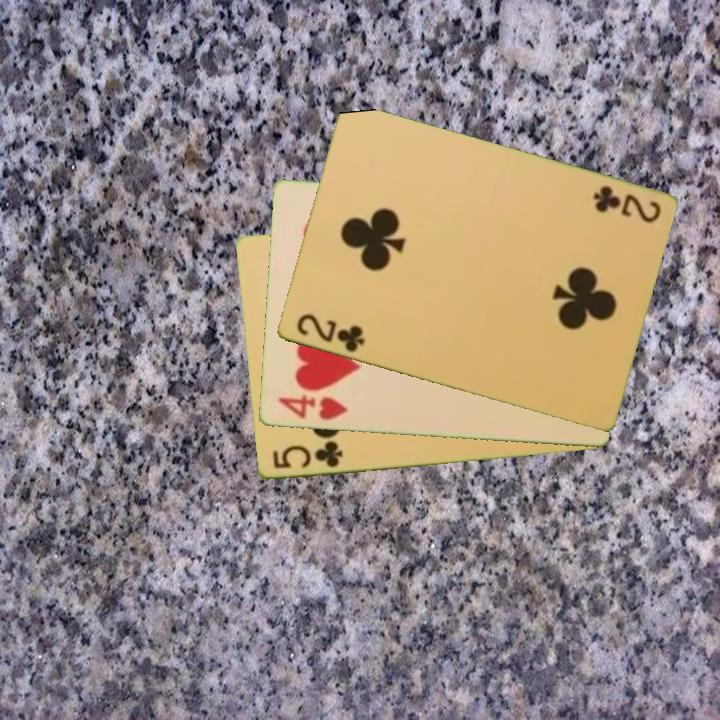2c: (292, 310, 367, 356), (589, 182, 664, 226)
4h: (274, 390, 351, 423)
5c: (269, 438, 345, 472)
